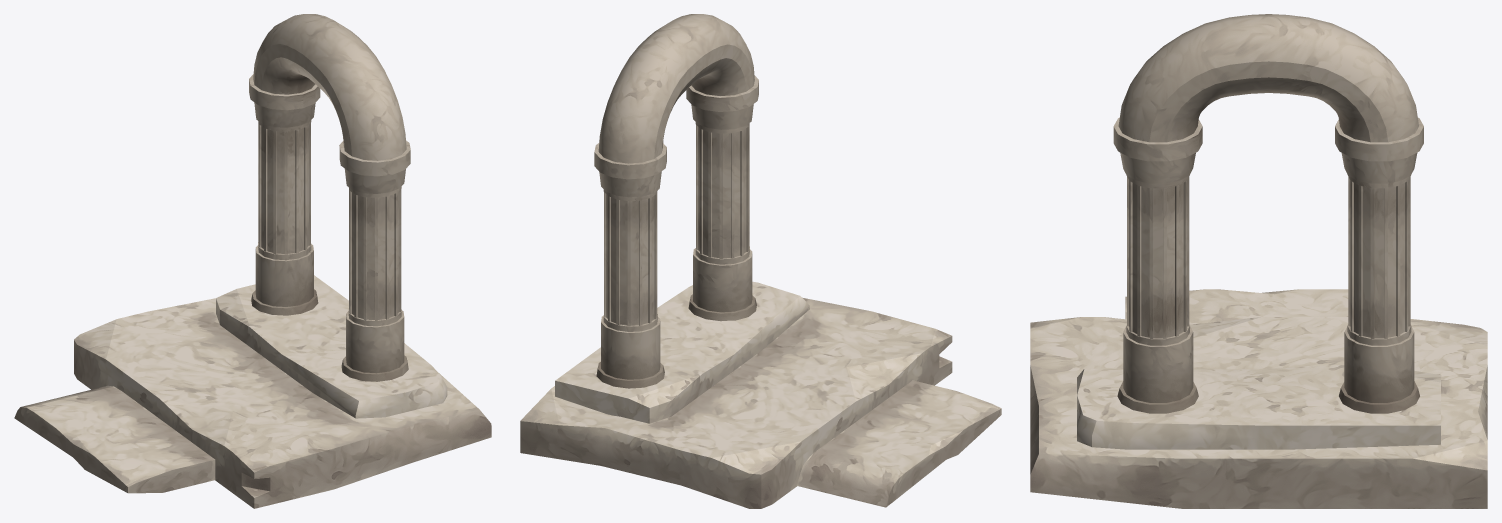
Rendered from ruina_2_podstawa.obj.
The picture shows the model from 3 angles, left to right: view 1: azimuth 30°, elevation 25°; view 2: azimuth 150°, elevation 25°; view 3: azimuth 270°, elevation 25°; orthographic projection. The views are drawn at different scales.
Parts seen in each view (by area): view 1: Cylinder.012; view 2: Cylinder.012; view 3: Cylinder.012.
Boxes of the visible parts, bbox=[...] form: Cylinder.012: bbox=[14, 14, 491, 508]; Cylinder.012: bbox=[520, 14, 1001, 508]; Cylinder.012: bbox=[1030, 14, 1487, 508].
Size of the model in its own units: 34.15 by 37.15 by 34.01.
Materials: 2 (2 with a texture image).
